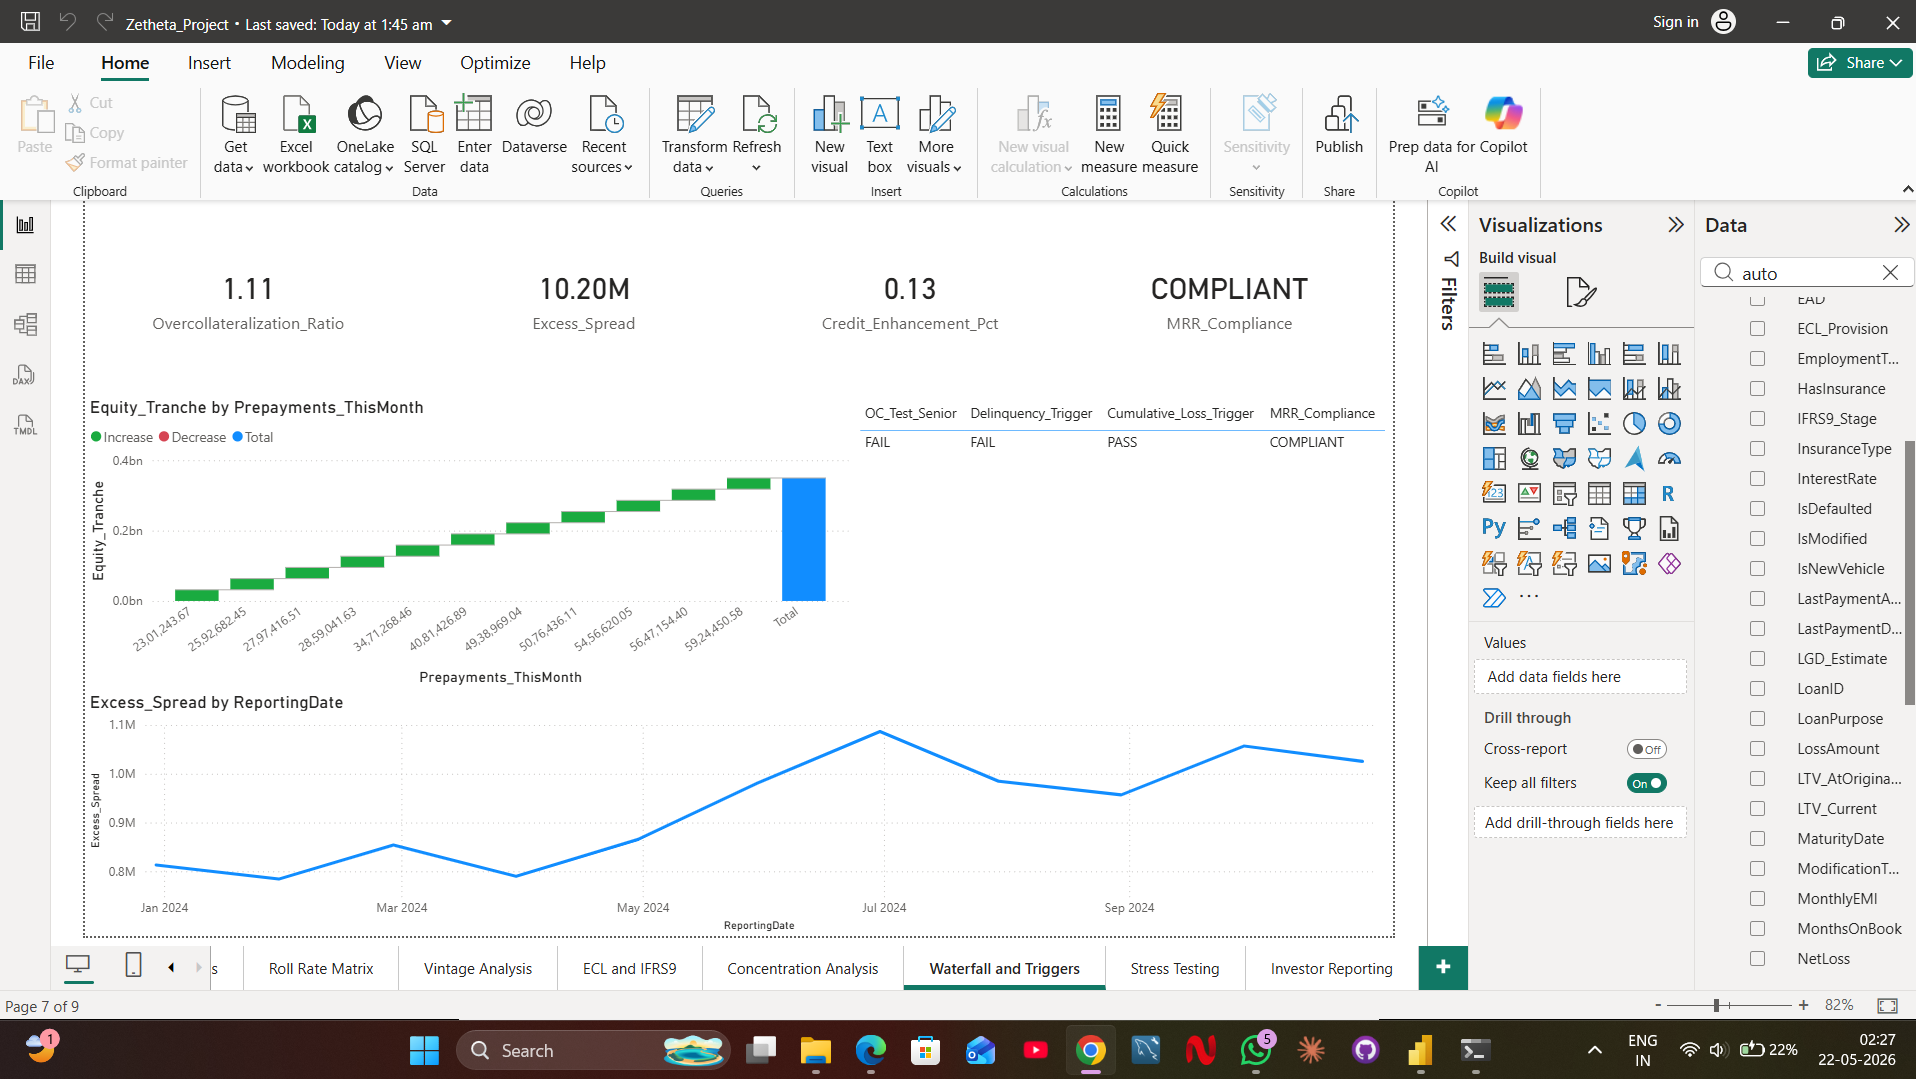

What the dashboard file says about the page in this screenshot:
{"tool":"powerbi","page":{"name":"Waterfall and Triggers","canvas":[1280,720],"ordinal":6},"visuals":[{"type":"card","fields":{"Values":["_Measures.Overcollateralization_Ratio"]},"box":[0,0,320,192],"z":0},{"type":"card","fields":{"Values":["_Measures.Excess_Spread"]},"box":[320,0,336,192],"z":1000},{"type":"card","fields":{"Values":["_Measures.Credit_Enhancement_Pct"]},"box":[656,0,304,192],"z":2000},{"type":"card","fields":{"Values":["_Measures.MRR_Compliance"]},"box":[960,0,320,192],"z":3000},{"type":"tableEx","fields":{"Values":["_Measures.OC_Test_Senior","_Measures.Delinquency_Trigger","_Measures.Cumulative_Loss_Trigger","_Measures.MRR_Compliance"]},"box":[752,192,528,288],"z":4000},{"type":"lineChart","fields":{"Category":["dynamic_loss_monthly.ReportingDate"],"Y":["_Measures.Excess_Spread"]},"box":[0,480,1280,240],"z":5000},{"type":"waterfallChart","fields":{"Category":["dynamic_loss_monthly.Prepayments_ThisMonth"],"Y":["_Measures.Equity_Tranche"]},"box":[0,192,752,288],"z":6000}]}

Visuals, with their boxes on the page's 1280x720 design canvas (x1, y1, x2, y2). These are canvas units, not pixel positions in the 1916x1079 screenshot, which may show the page scaled, cropped or inside an application window:
card - _Measures.Overcollateralization_Ratio: x1=0, y1=0, x2=320, y2=192
card - _Measures.Excess_Spread: x1=320, y1=0, x2=656, y2=192
card - _Measures.Credit_Enhancement_Pct: x1=656, y1=0, x2=960, y2=192
card - _Measures.MRR_Compliance: x1=960, y1=0, x2=1280, y2=192
tableEx - _Measures.OC_Test_Senior x _Measures.Delinquency_Trigger: x1=752, y1=192, x2=1280, y2=480
lineChart - dynamic_loss_monthly.ReportingDate x _Measures.Excess_Spread: x1=0, y1=480, x2=1280, y2=720
waterfallChart - dynamic_loss_monthly.Prepayments_ThisMonth x _Measures.Equity_Tranche: x1=0, y1=192, x2=752, y2=480
